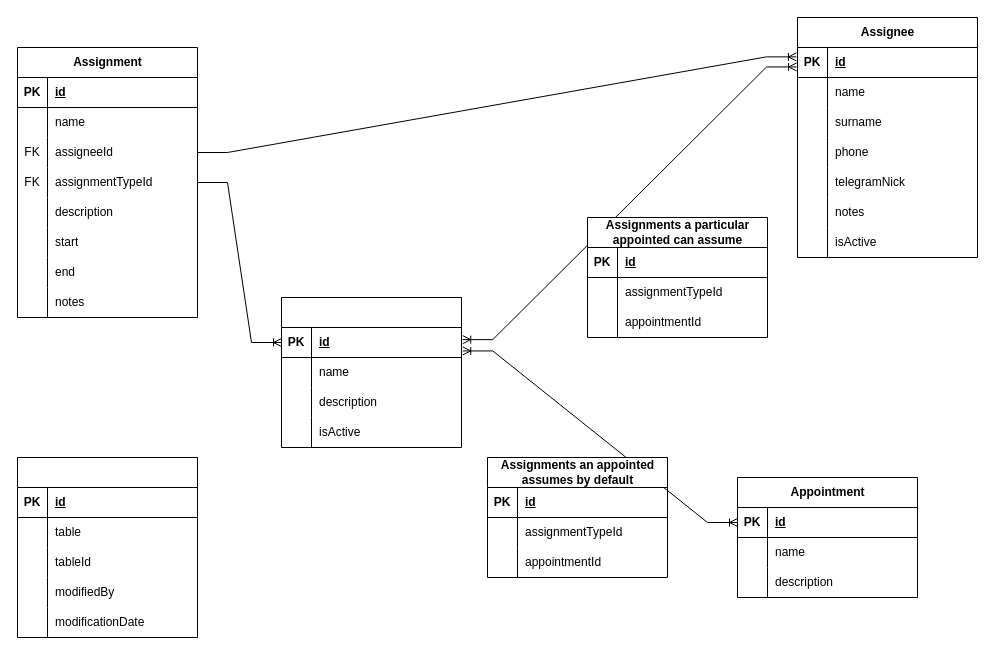
The diagram is 995 pixels wide and 655 high, and some of its shapes have lost their labels. Each missing label, with the box of its shape:
AssignmentType: (280, 296, 462, 448)
Modifications: (16, 456, 198, 638)
